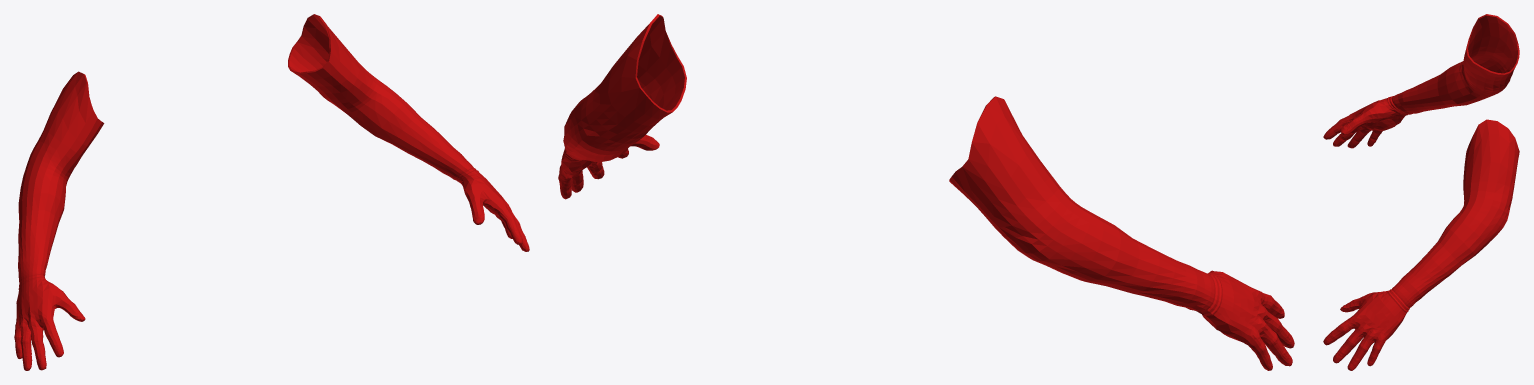
File: mhw_culturalibre_hero-heroine_gloves_4.glb
3 renders of one model, left to right at view 1: azimuth 30°, elevation 25°; view 2: azimuth 150°, elevation 25°; view 3: azimuth 270°, elevation 25°, orthographic. The views are drawn at different scales.
Visible parts, largest first — view 1: mhw_culturalibre_hero-heroine_gloves_4; view 2: mhw_culturalibre_hero-heroine_gloves_4; view 3: mhw_culturalibre_hero-heroine_gloves_4.
Part boxes in pixels (left/top/right/bottom): mhw_culturalibre_hero-heroine_gloves_4: left=14, top=14, right=529, bottom=370; mhw_culturalibre_hero-heroine_gloves_4: left=558, top=14, right=1294, bottom=370; mhw_culturalibre_hero-heroine_gloves_4: left=1323, top=14, right=1519, bottom=370.
Size of the model in its own units: 1.22 by 0.4875 by 0.45.
1 material, 1 textured.
